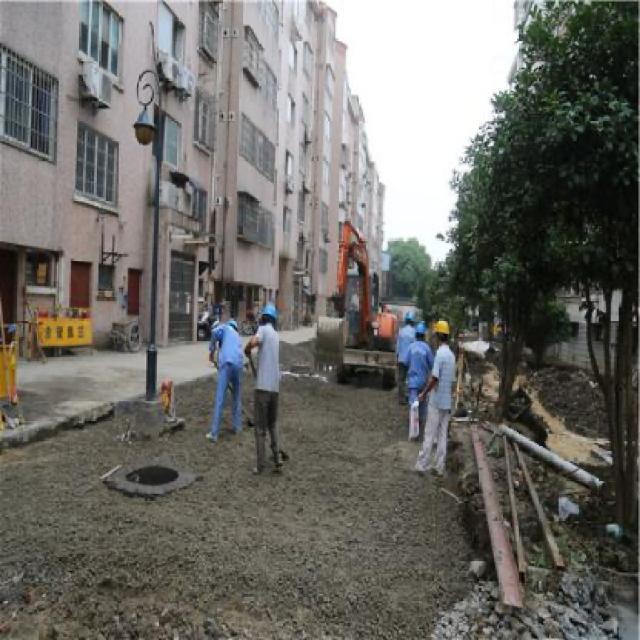con casco: (416, 314, 480, 370)
